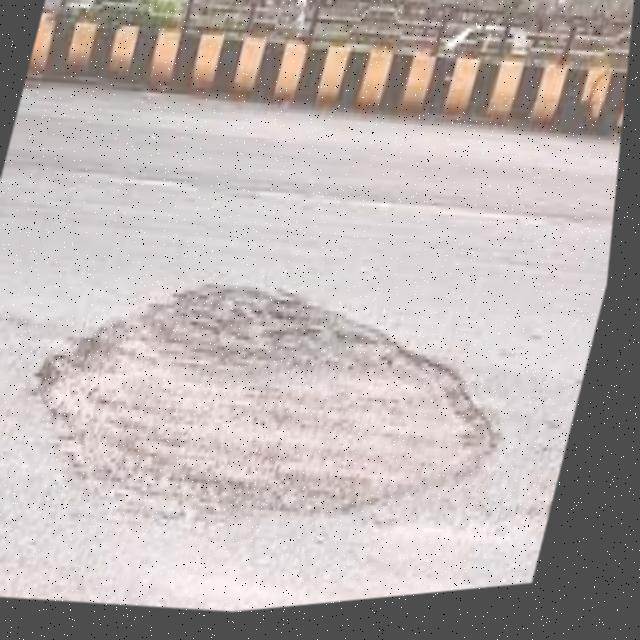pothole: (0, 224, 554, 590)
